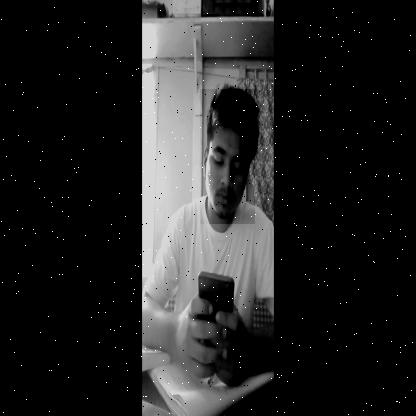Normal: (200, 89, 255, 224)
